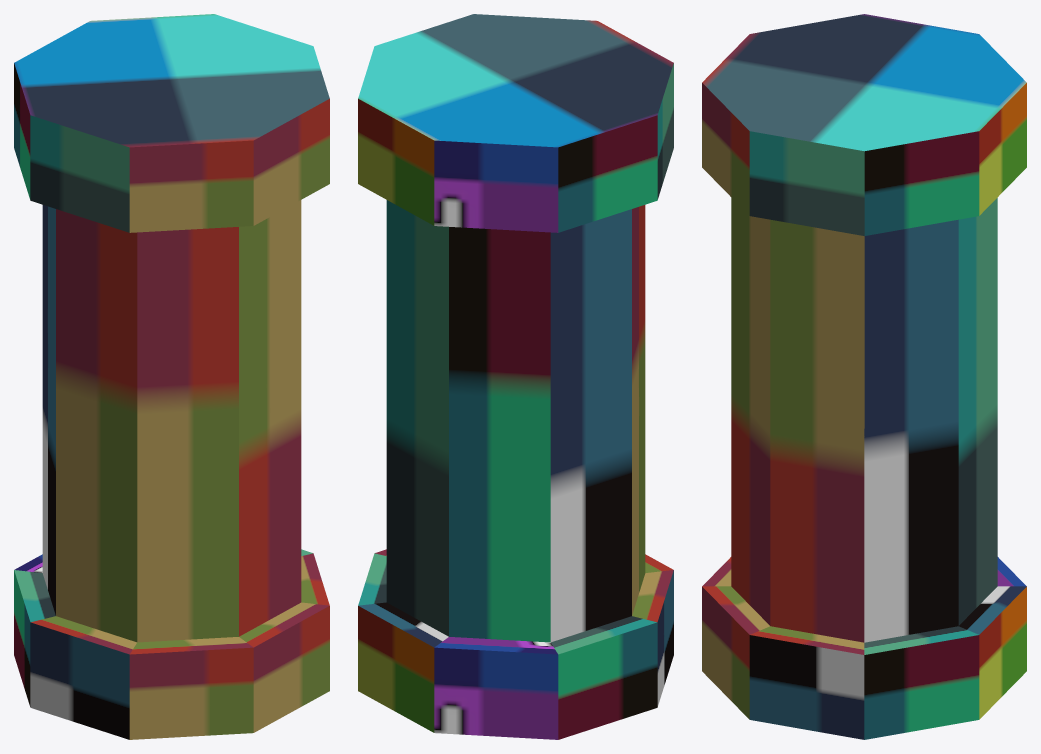
Rendered from pillar02.fbx.
3 renders of one model, left to right at view 1: azimuth 30°, elevation 25°; view 2: azimuth 150°, elevation 25°; view 3: azimuth 270°, elevation 25°, orthographic.
Parts seen in each view (by area): view 1: pillar02; view 2: pillar02; view 3: pillar02.
Boxes of the visible parts, x1,y1,x2,y2 form: pillar02: (14, 14, 329, 739); pillar02: (358, 14, 673, 739); pillar02: (702, 14, 1026, 739).
Bounding box in the file's own units: 50 × 100 × 50.
Materials: 1 (1 with a texture image).
